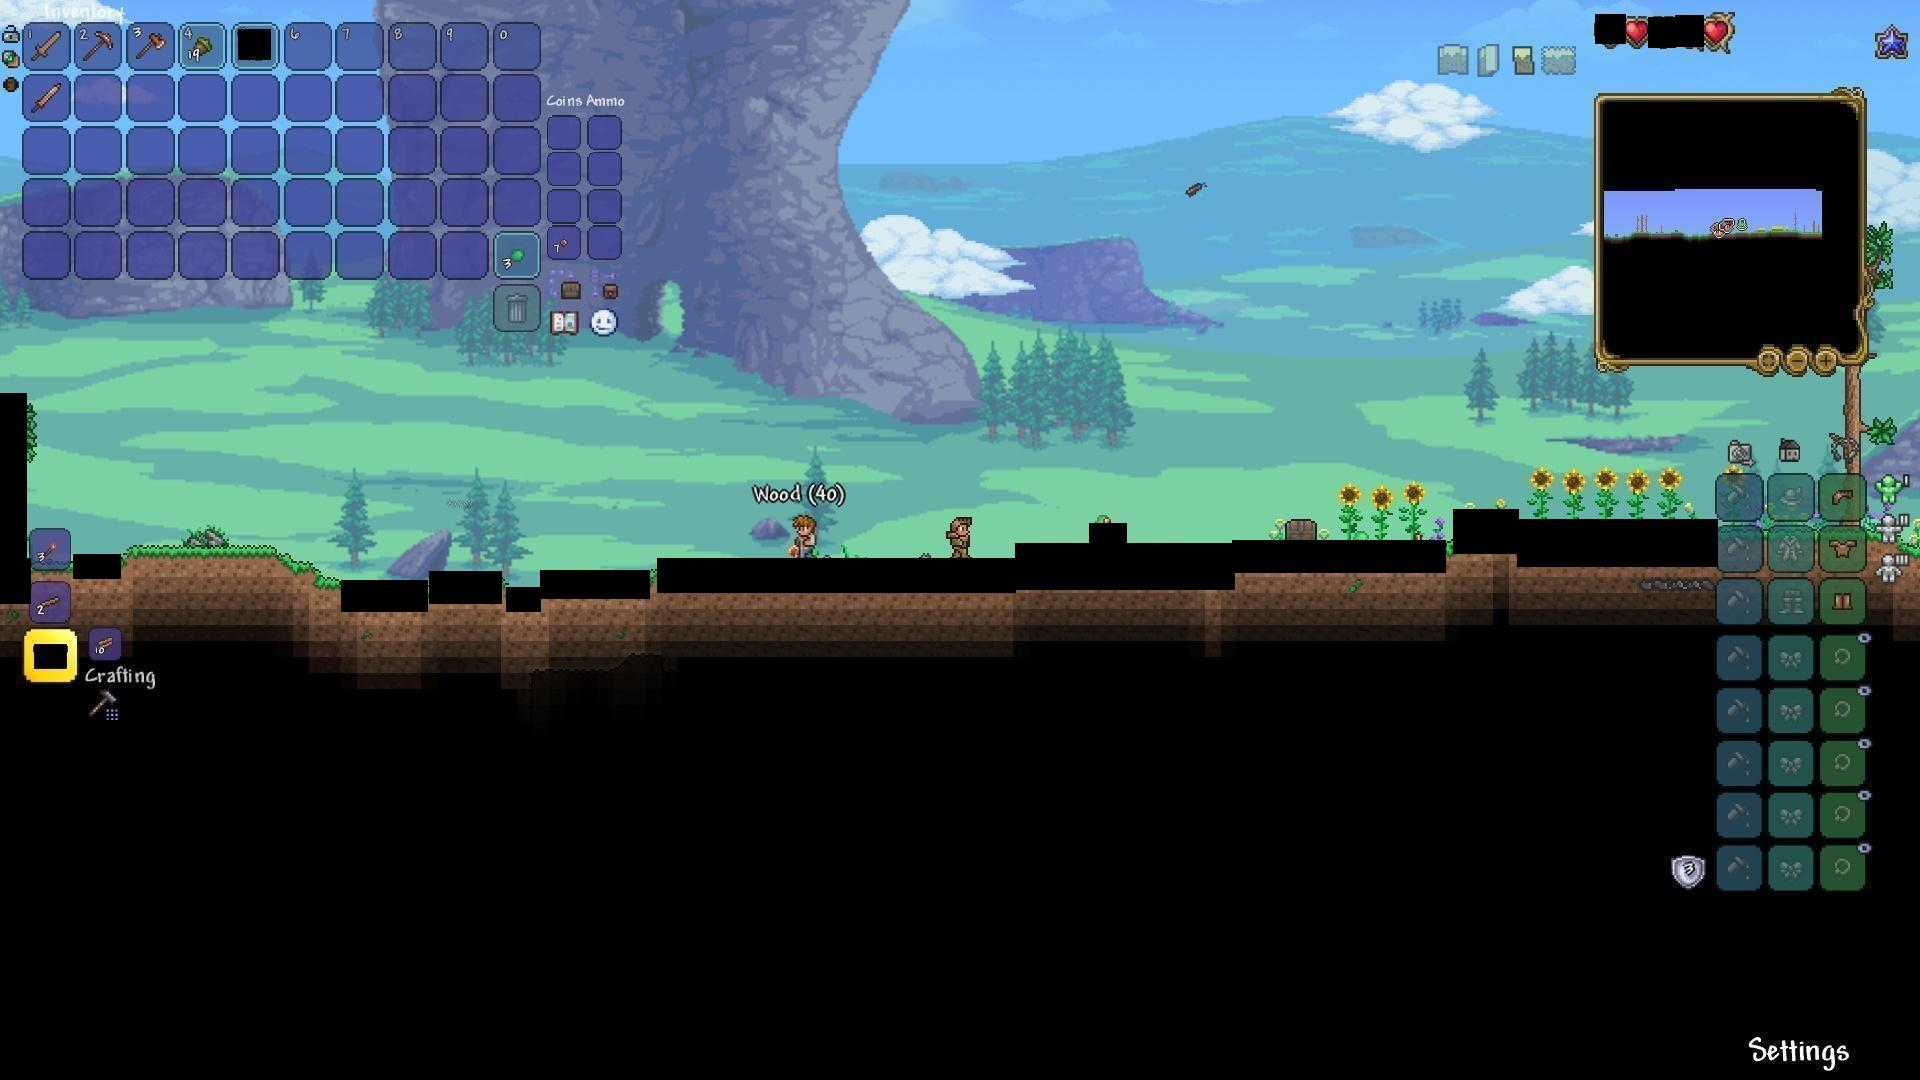breastplate: (1830, 539, 1859, 559)
dirt: (120, 537, 336, 585)
heart: (1704, 16, 1731, 47), (1625, 17, 1651, 46)
helmet: (1828, 484, 1857, 509)
legs: (1830, 589, 1855, 615)
wood: (92, 630, 120, 655)
